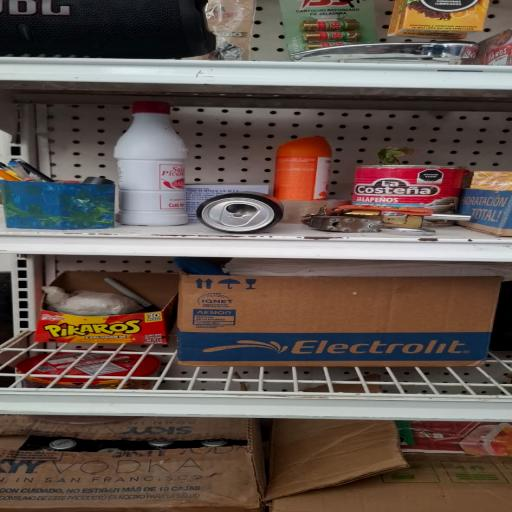LATA: (187, 189, 296, 237)
